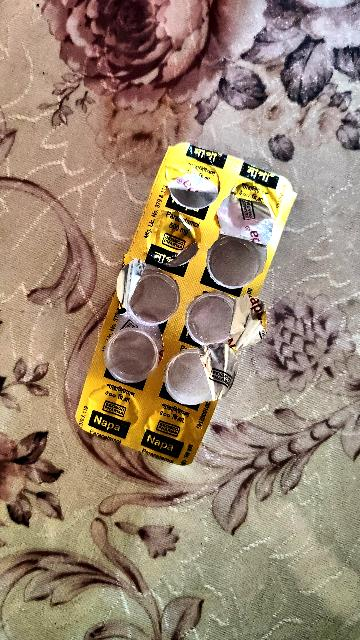medicine: (40, 115, 311, 502)
